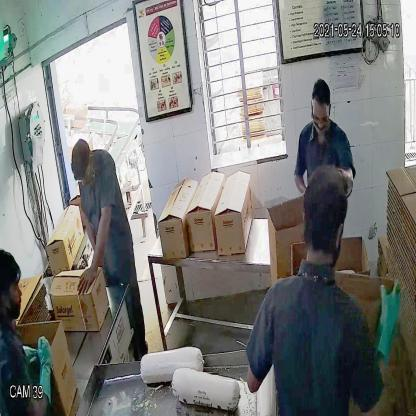goggles: (310, 108, 331, 128)
